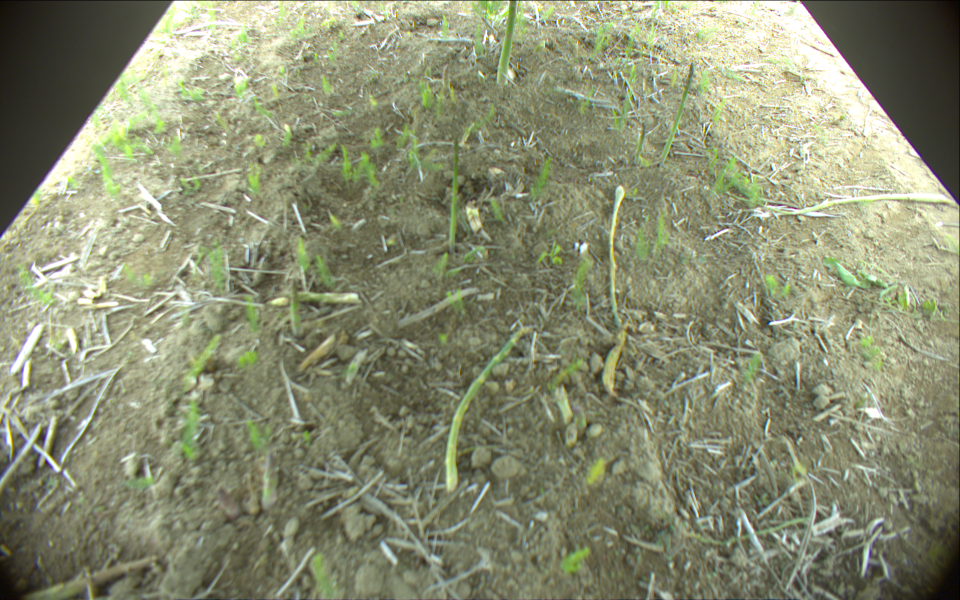aspa: (443, 327, 531, 494), (771, 192, 955, 217), (658, 64, 693, 168), (607, 187, 623, 333), (447, 135, 460, 257), (497, 1, 515, 85), (269, 293, 357, 307), (261, 455, 278, 513), (288, 280, 303, 337), (632, 124, 646, 168)
